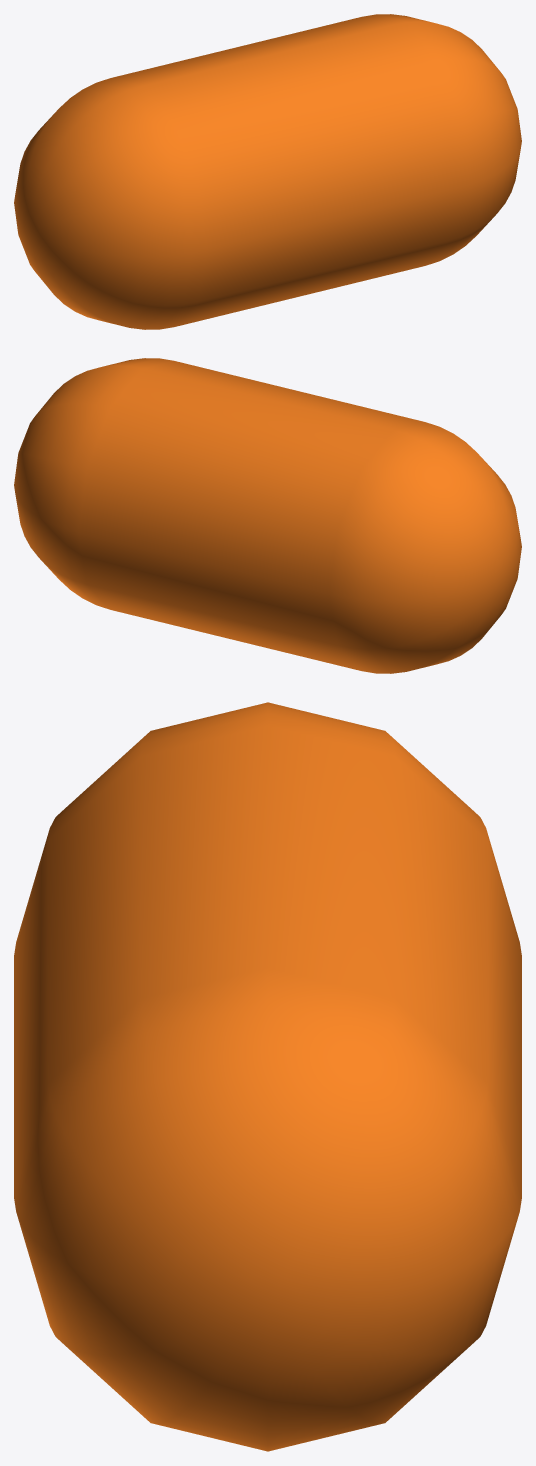
The picture shows the model from 3 angles, top to bottom: view 1: azimuth 30°, elevation 25°; view 2: azimuth 150°, elevation 25°; view 3: azimuth 270°, elevation 25°; orthographic projection. The views are drawn at different scales.
Parts seen in each view (by area): view 1: gripper_frame; view 2: gripper_frame; view 3: gripper_frame.
Part boxes in pixels (bbox=[...]): gripper_frame: bbox=[14, 14, 521, 329]; gripper_frame: bbox=[14, 358, 521, 673]; gripper_frame: bbox=[14, 702, 521, 1451].
Size of the model in its own units: 0.022 by 0.0104 by 0.0104.
